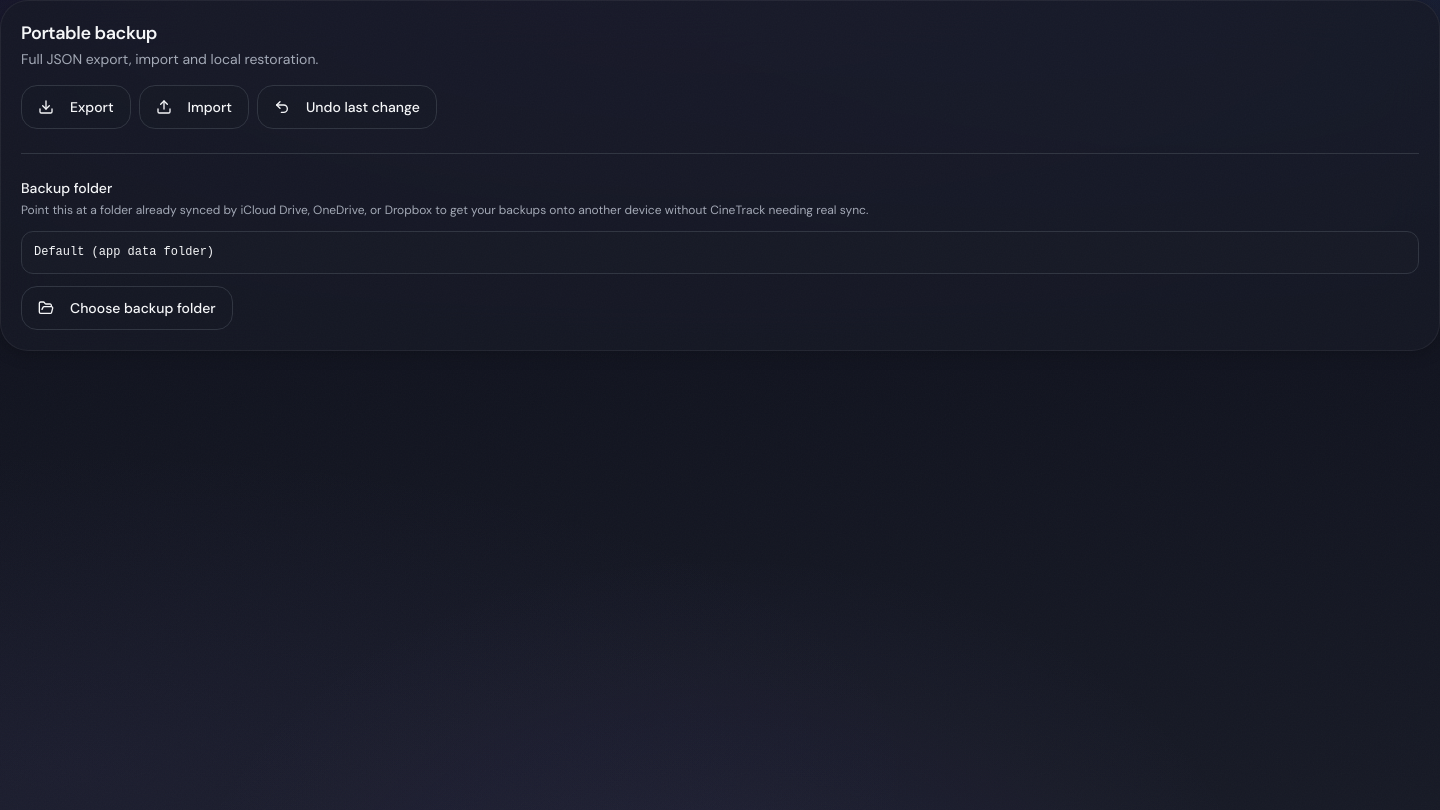
BackupTools › undo last import › the Cancel button closes the undo confirmation dialog when not undoing
This screenshot has width=1440, height=810.
Click the button "Undo last change".
click(347, 107)  # box [257,85,437,129]
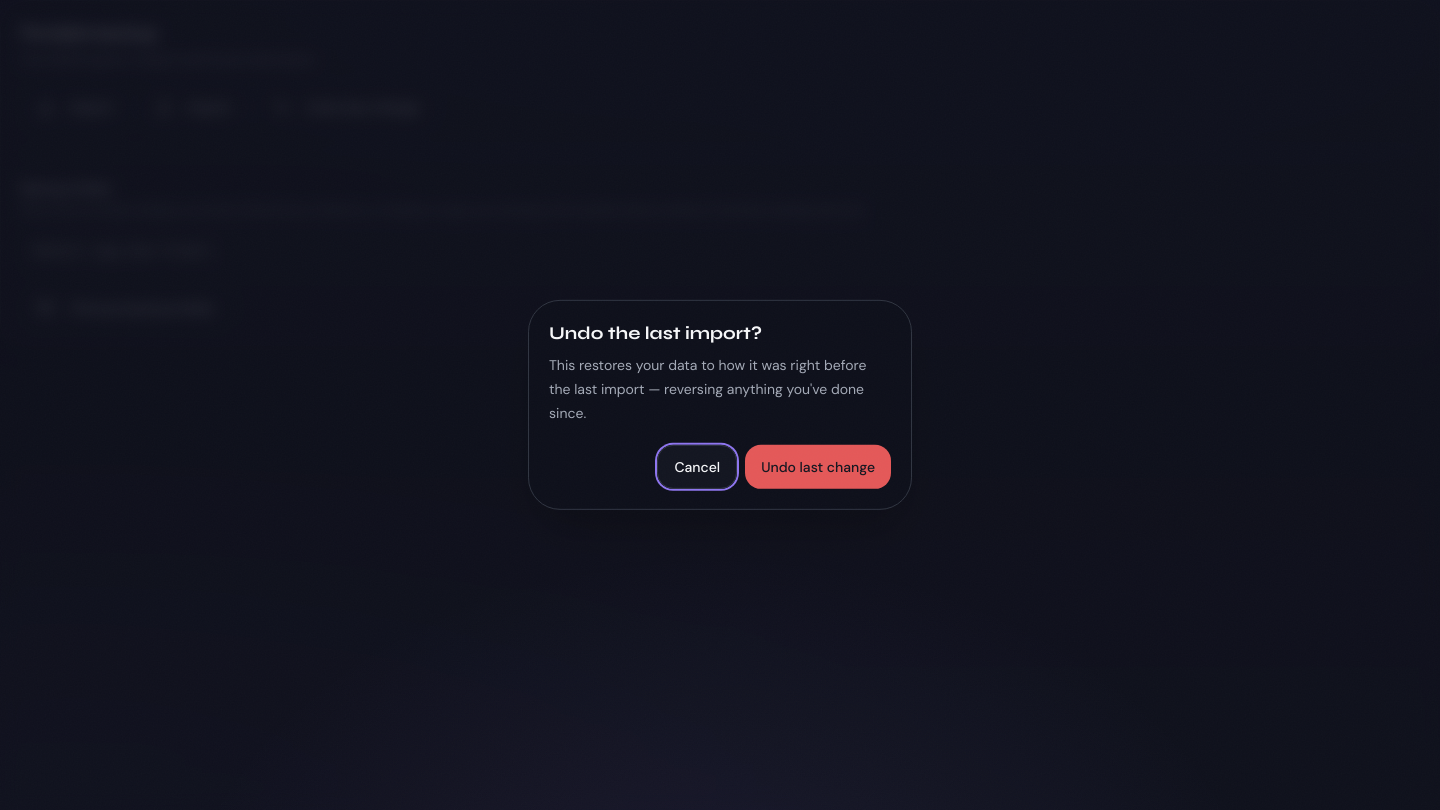
Now the heading "Undo the last import?" is shown, box [549,322,762,344]
Click the button "Cancel".
click(697, 467)  # box [657,445,737,489]
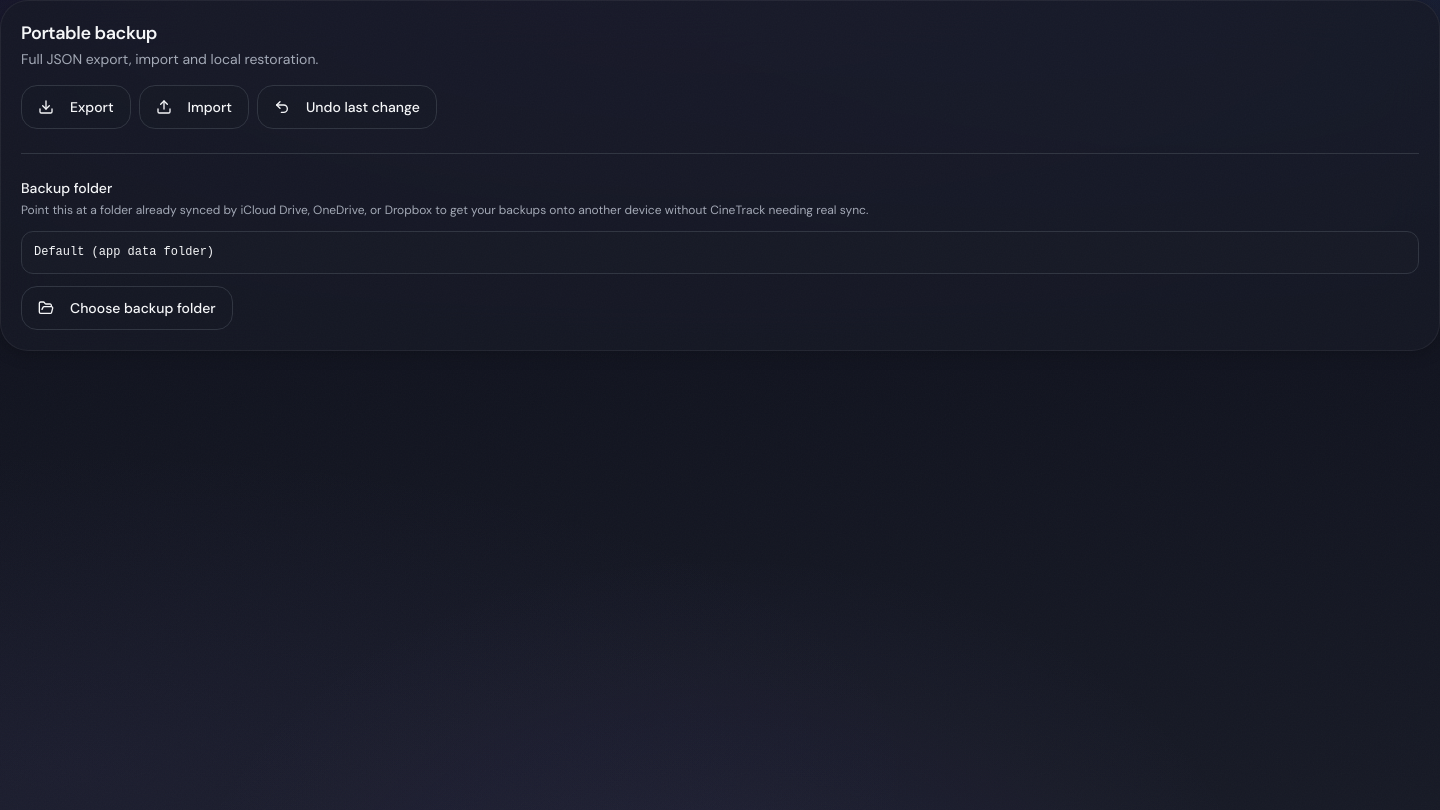
Now the heading "Undo the last import?" is gone
